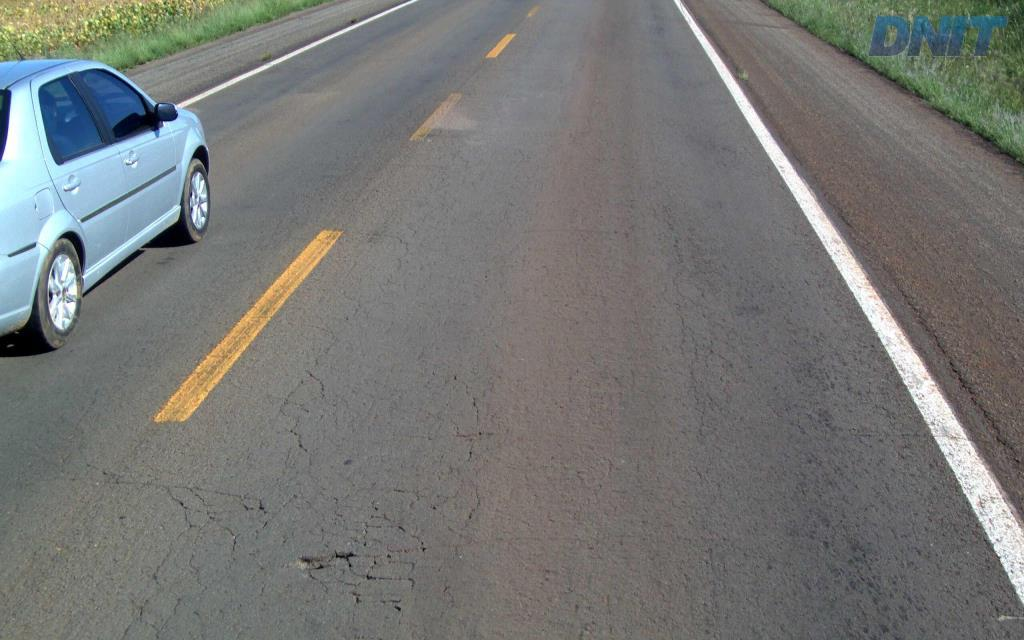crack: (298, 549, 357, 579)
pothole: (286, 546, 360, 575)
